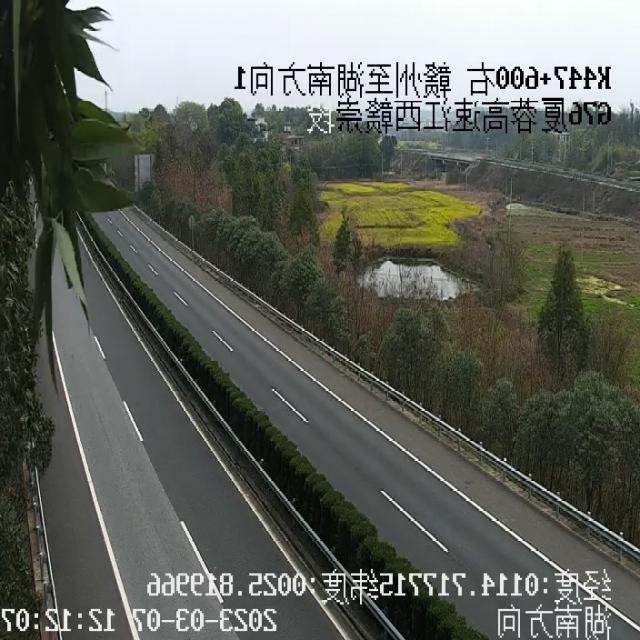cover: (22, 243, 102, 343), (92, 180, 138, 234)
